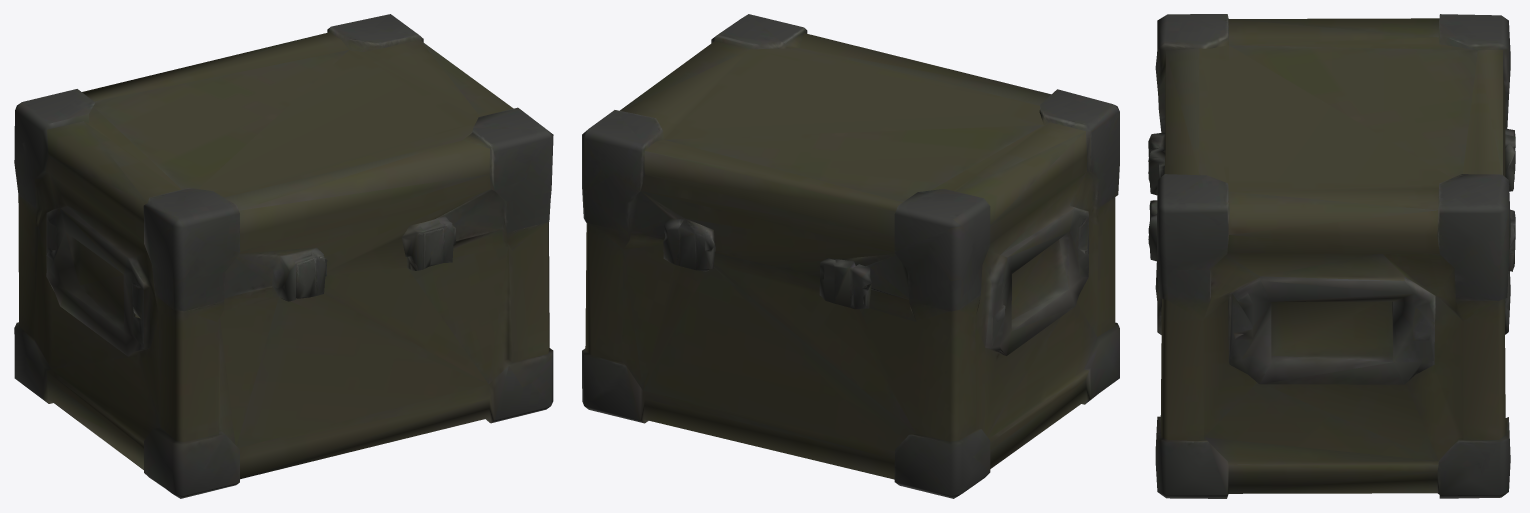
3 renders of one model, left to right at view 1: azimuth 30°, elevation 25°; view 2: azimuth 150°, elevation 25°; view 3: azimuth 270°, elevation 25°, orthographic. The views are drawn at different scales.
Bounding box in the file's own units: 1.9 × 1.32 × 1.48.
1 material, 1 textured.
